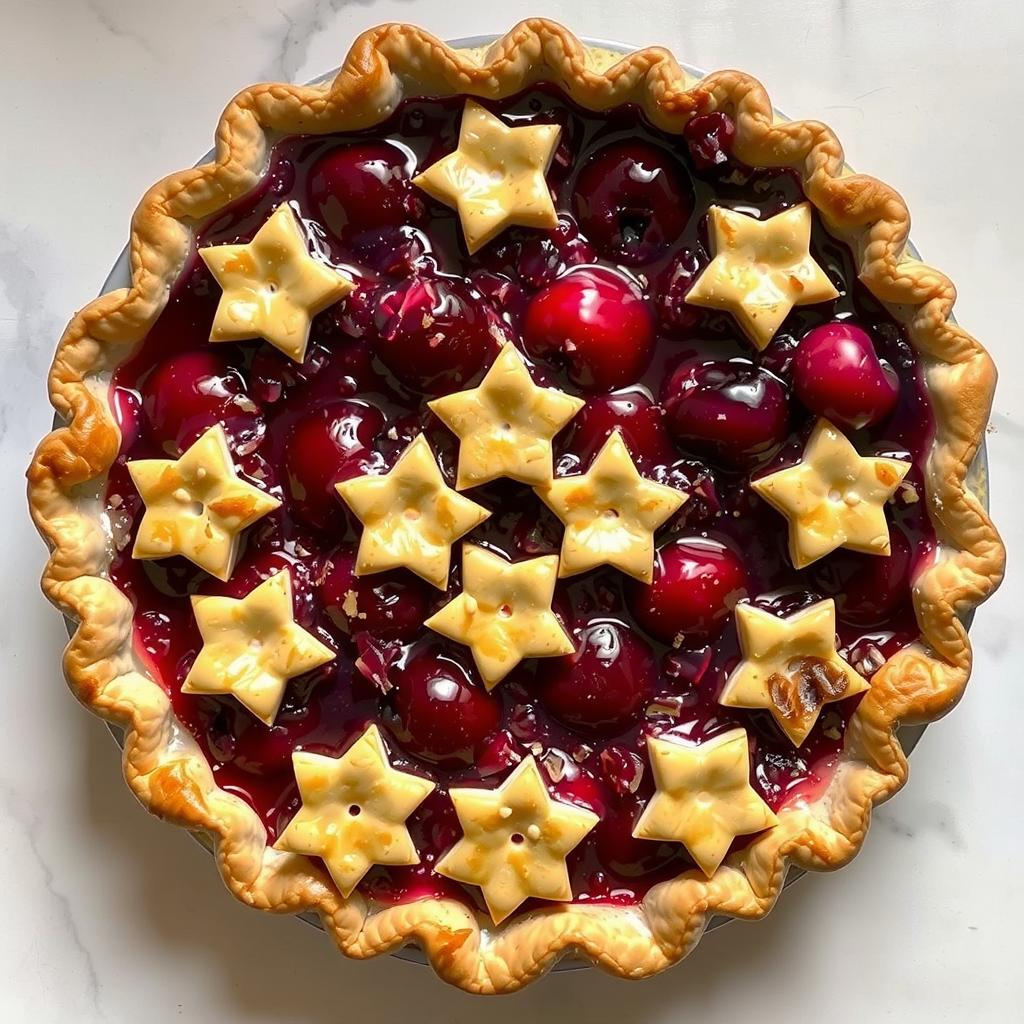pie: (21, 19, 1011, 1013)
